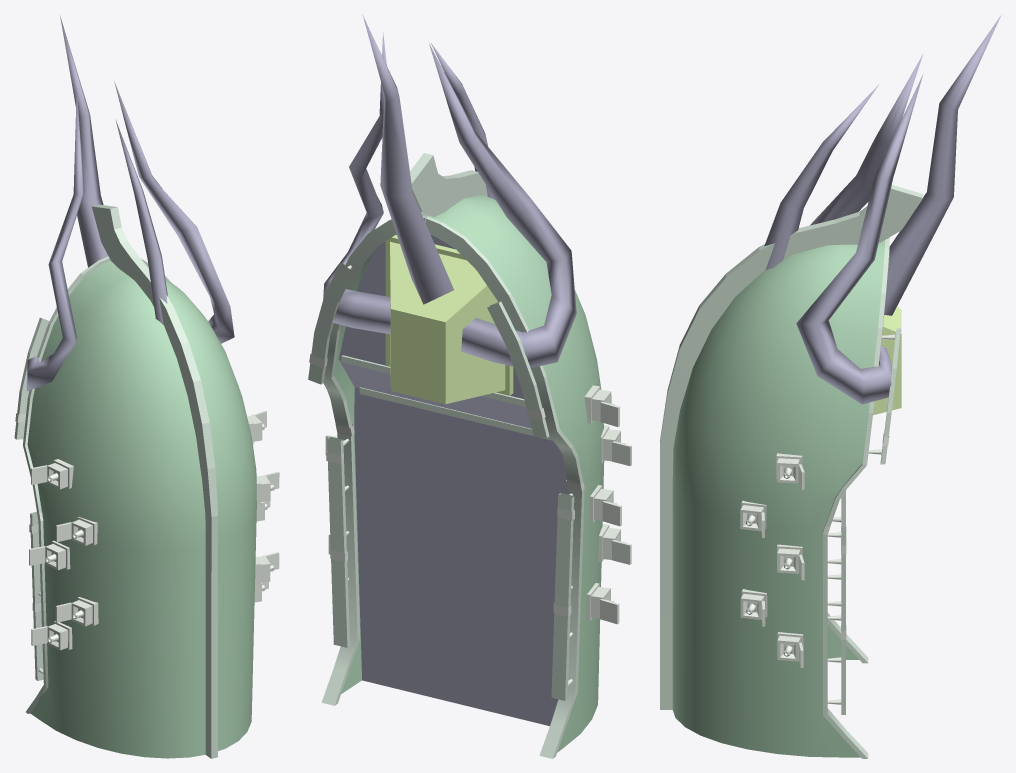
3 views of the same model, side by side, from view 1: azimuth 30°, elevation 25°; view 2: azimuth 150°, elevation 25°; view 3: azimuth 270°, elevation 25° (orthographic). The views are drawn at different scales.
Visible parts, largest first — view 1: Object31; view 2: Object31; view 3: Object31.
Part boxes in pixels (<box>): Object31: <box>14,15,279,758</box>; Object31: <box>308,15,631,758</box>; Object31: <box>660,15,1001,758</box>.
Size of the model in its own units: 14366 by 35948 by 16041.
